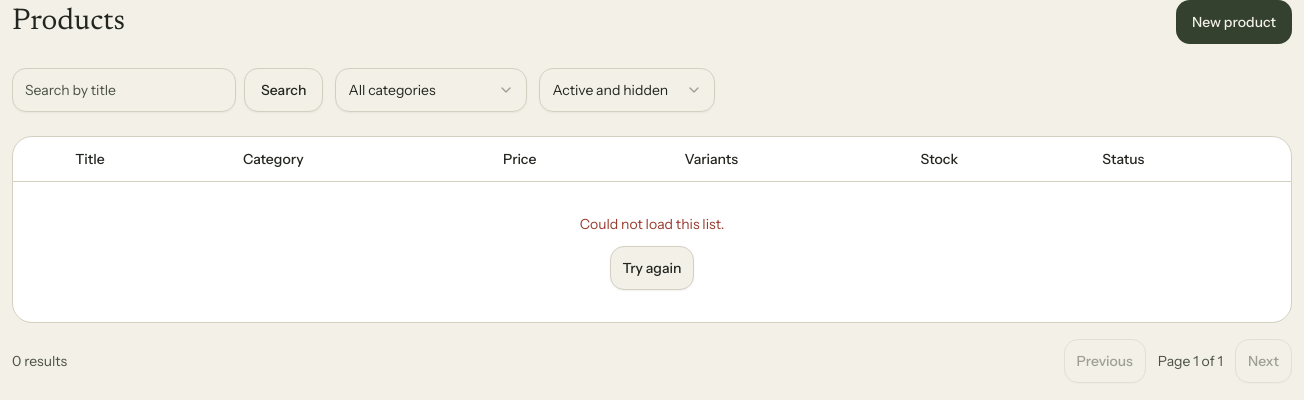
Test: admin ProductsPage › shows an error with a retry button
Expected: the message shows "Could not load this list.", x1=580 y1=215 x2=724 y2=233
Click the button "Try again" at (652,268), box x1=610 y1=246 x2=694 y2=290
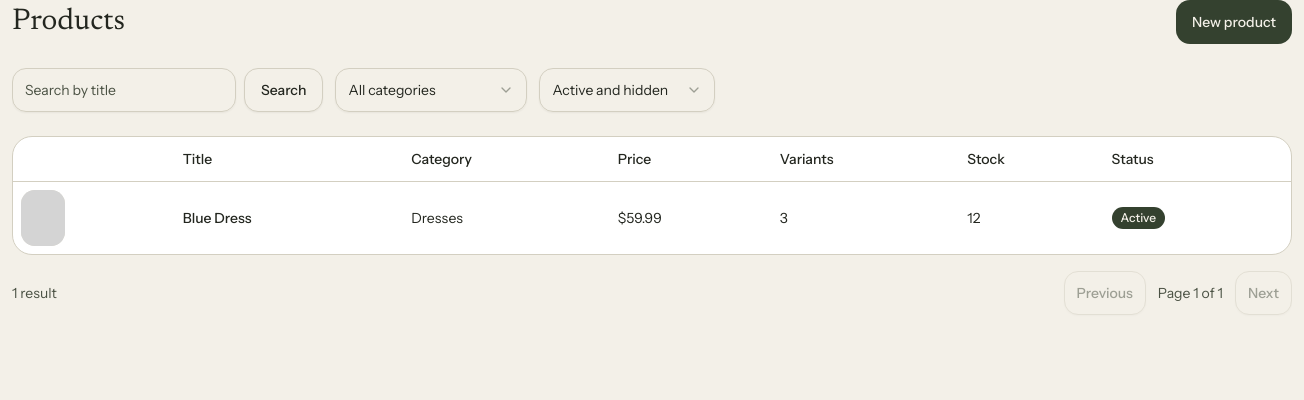
Expected: the link "Blue Dress" is shown, x1=183 y1=209 x2=252 y2=227
